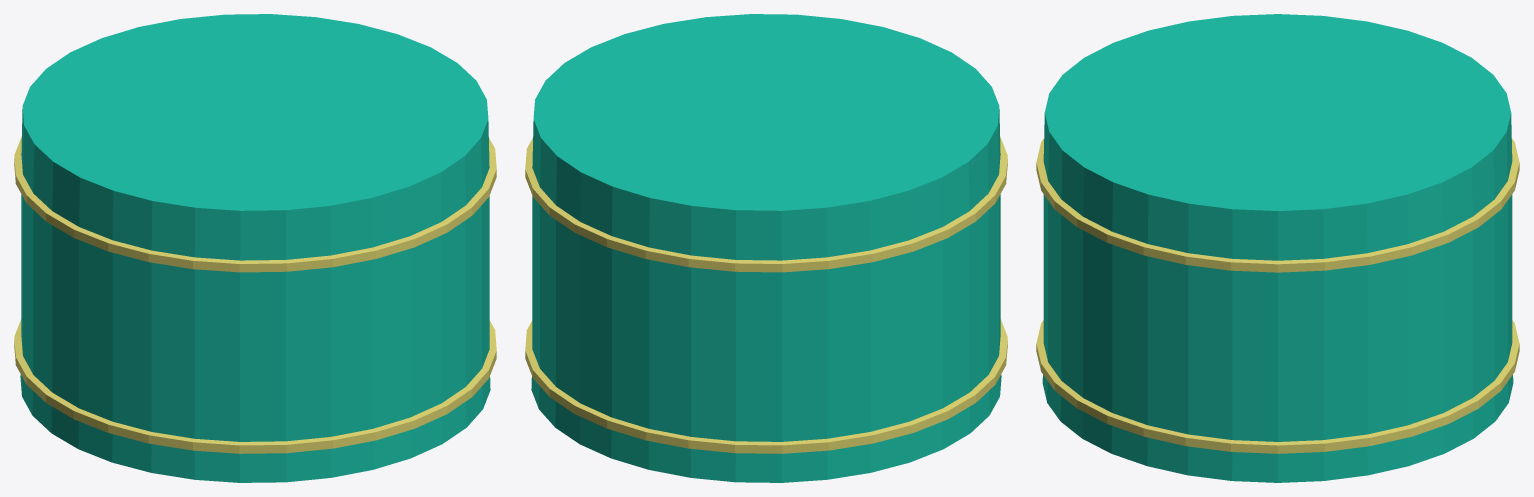
File: Teapot_test.fbx
3 renders of one model, left to right at view 1: azimuth 30°, elevation 25°; view 2: azimuth 150°, elevation 25°; view 3: azimuth 270°, elevation 25°, orthographic.
Parts seen in each view (by area): view 1: Cylinder.002; view 2: Cylinder.002; view 3: Cylinder.002.
Boxes of the visible parts, left/top/right/bottom form: Cylinder.002: left=14, top=14, right=496, bottom=482; Cylinder.002: left=525, top=14, right=1007, bottom=482; Cylinder.002: left=1036, top=14, right=1519, bottom=482.
Bounding box in the file's own units: 129 × 79.54 × 129.
